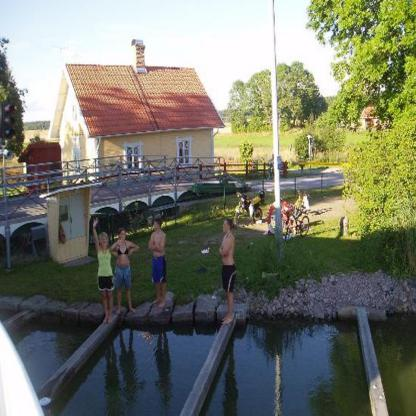face: (102, 236, 108, 247), (121, 233, 127, 241), (223, 224, 228, 233), (155, 224, 159, 231)
